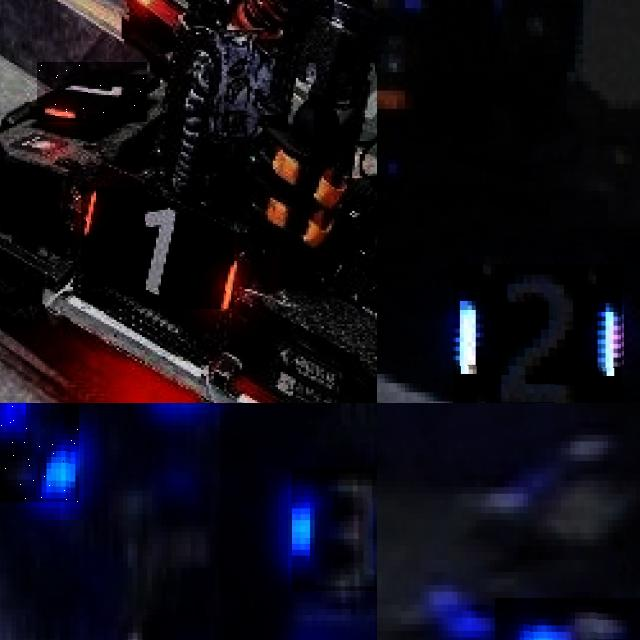B2: (453, 264, 623, 403)
B3: (292, 466, 377, 591), (0, 403, 79, 502)
B5: (495, 598, 640, 640)
R1: (81, 187, 234, 309), (38, 62, 148, 122)
